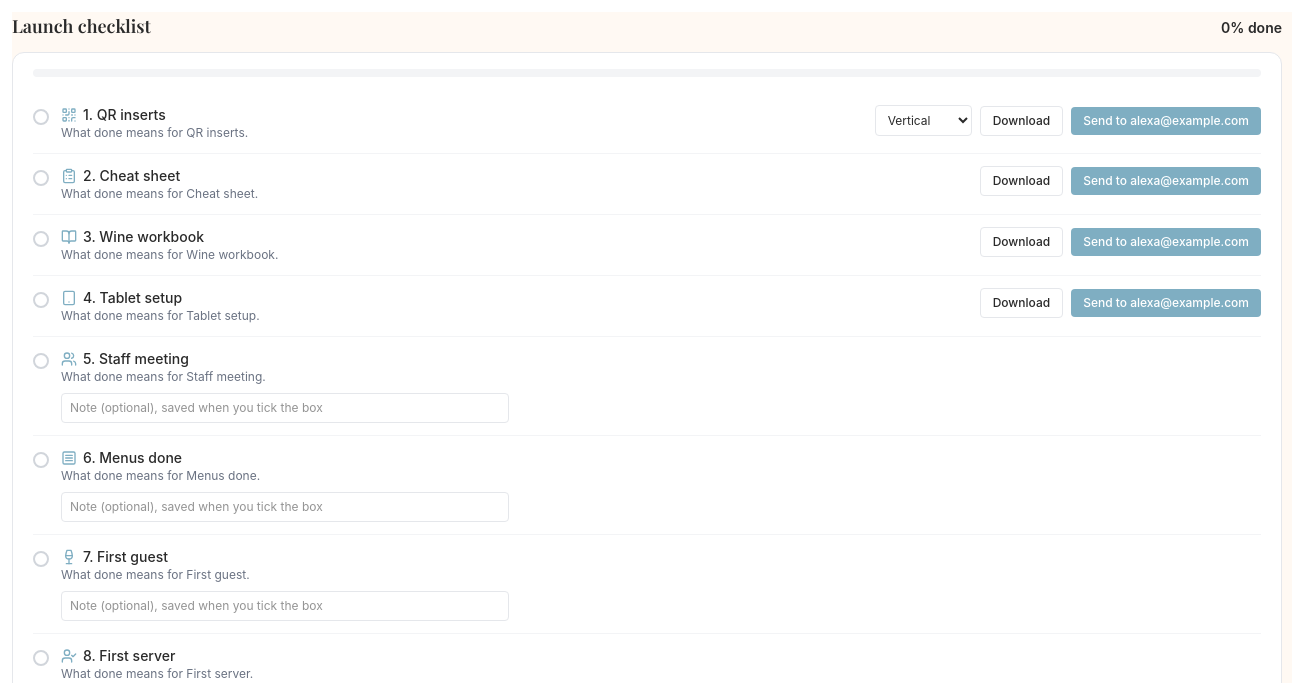
Launch checklist section › asks before sending, sends the chosen layout, and then shows who it went to
The width and height of the screenshot is (1292, 683).
Expected: the text "0% done" is shown, [1221,18,1282,38]
Select "Horizontal" in the dropdown named "QR insert layout": (923, 120) [875,105,972,136]
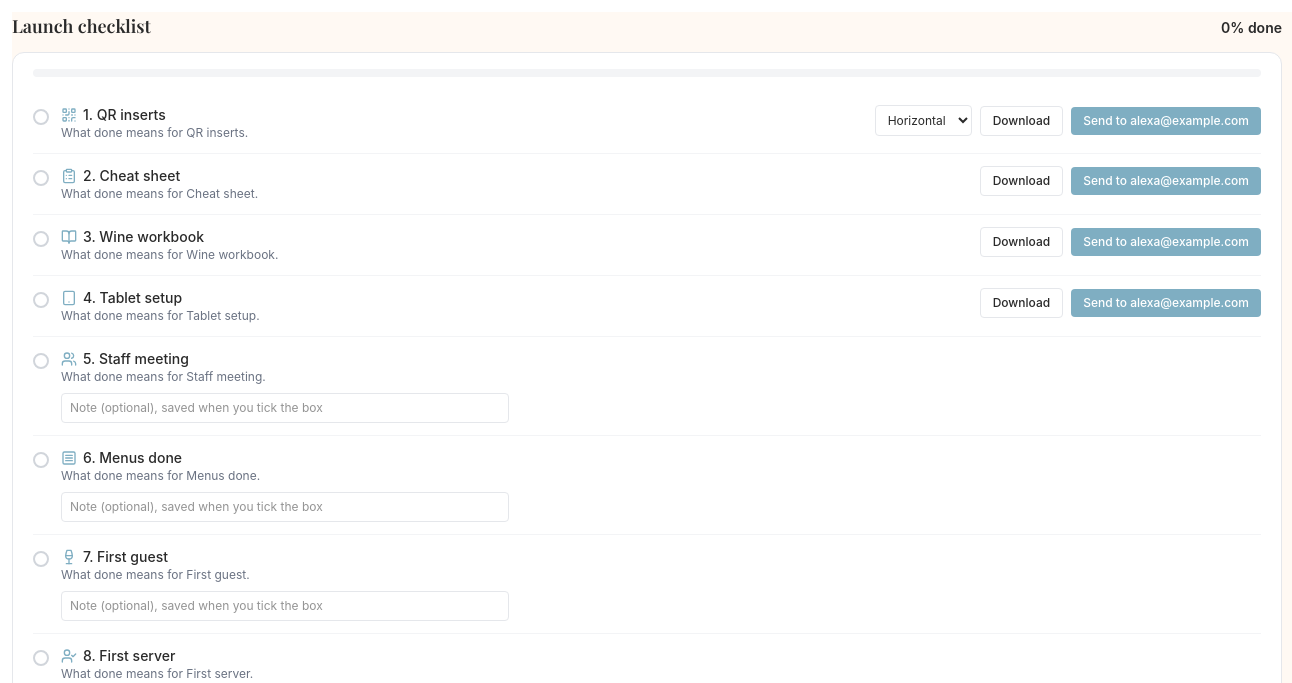
Click the button "Send to alexa@example.com" in the row of "What done means for QR inserts.": click(1166, 120) [1071,106,1261,134]
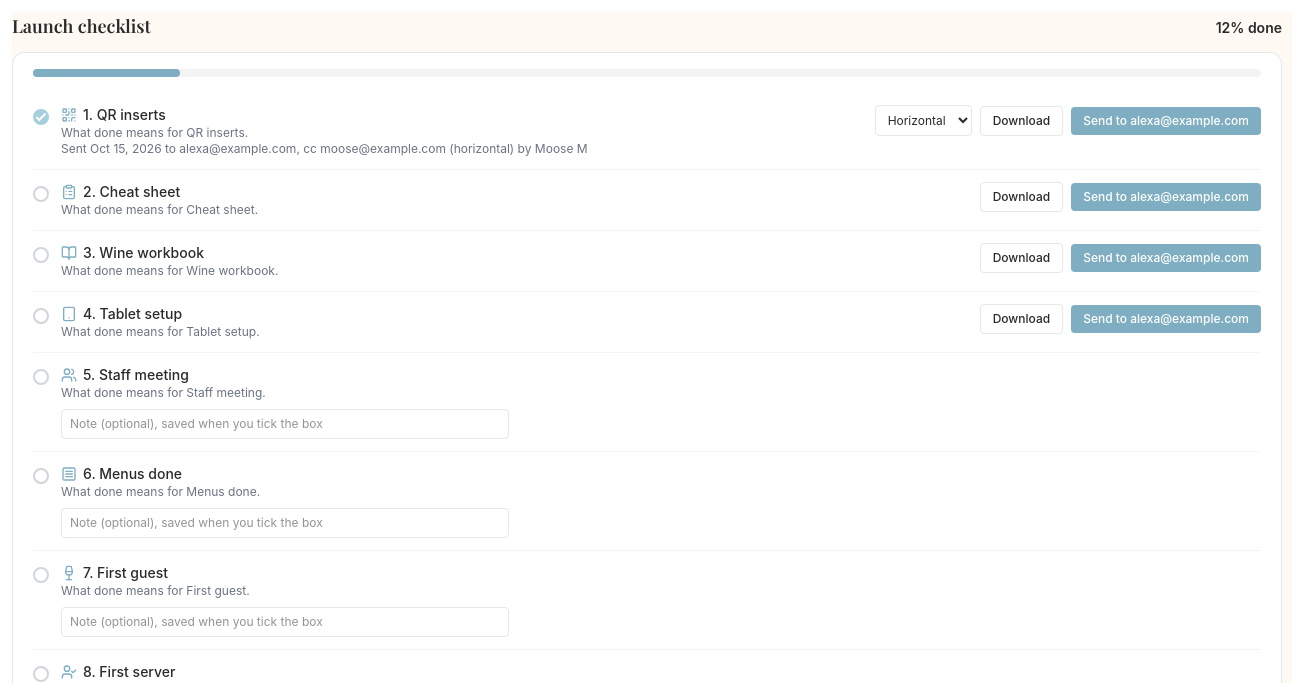
Now the text with test id "launch-done-qr_inserts" shows "Sent Oct 15, 2026 to alexa@example.com, cc moose@example.com (horizontal) by Moose M", box [61,141,588,156]
Now the text with test id "launch-percent" reads "12% done", box [1216,18,1282,38]
